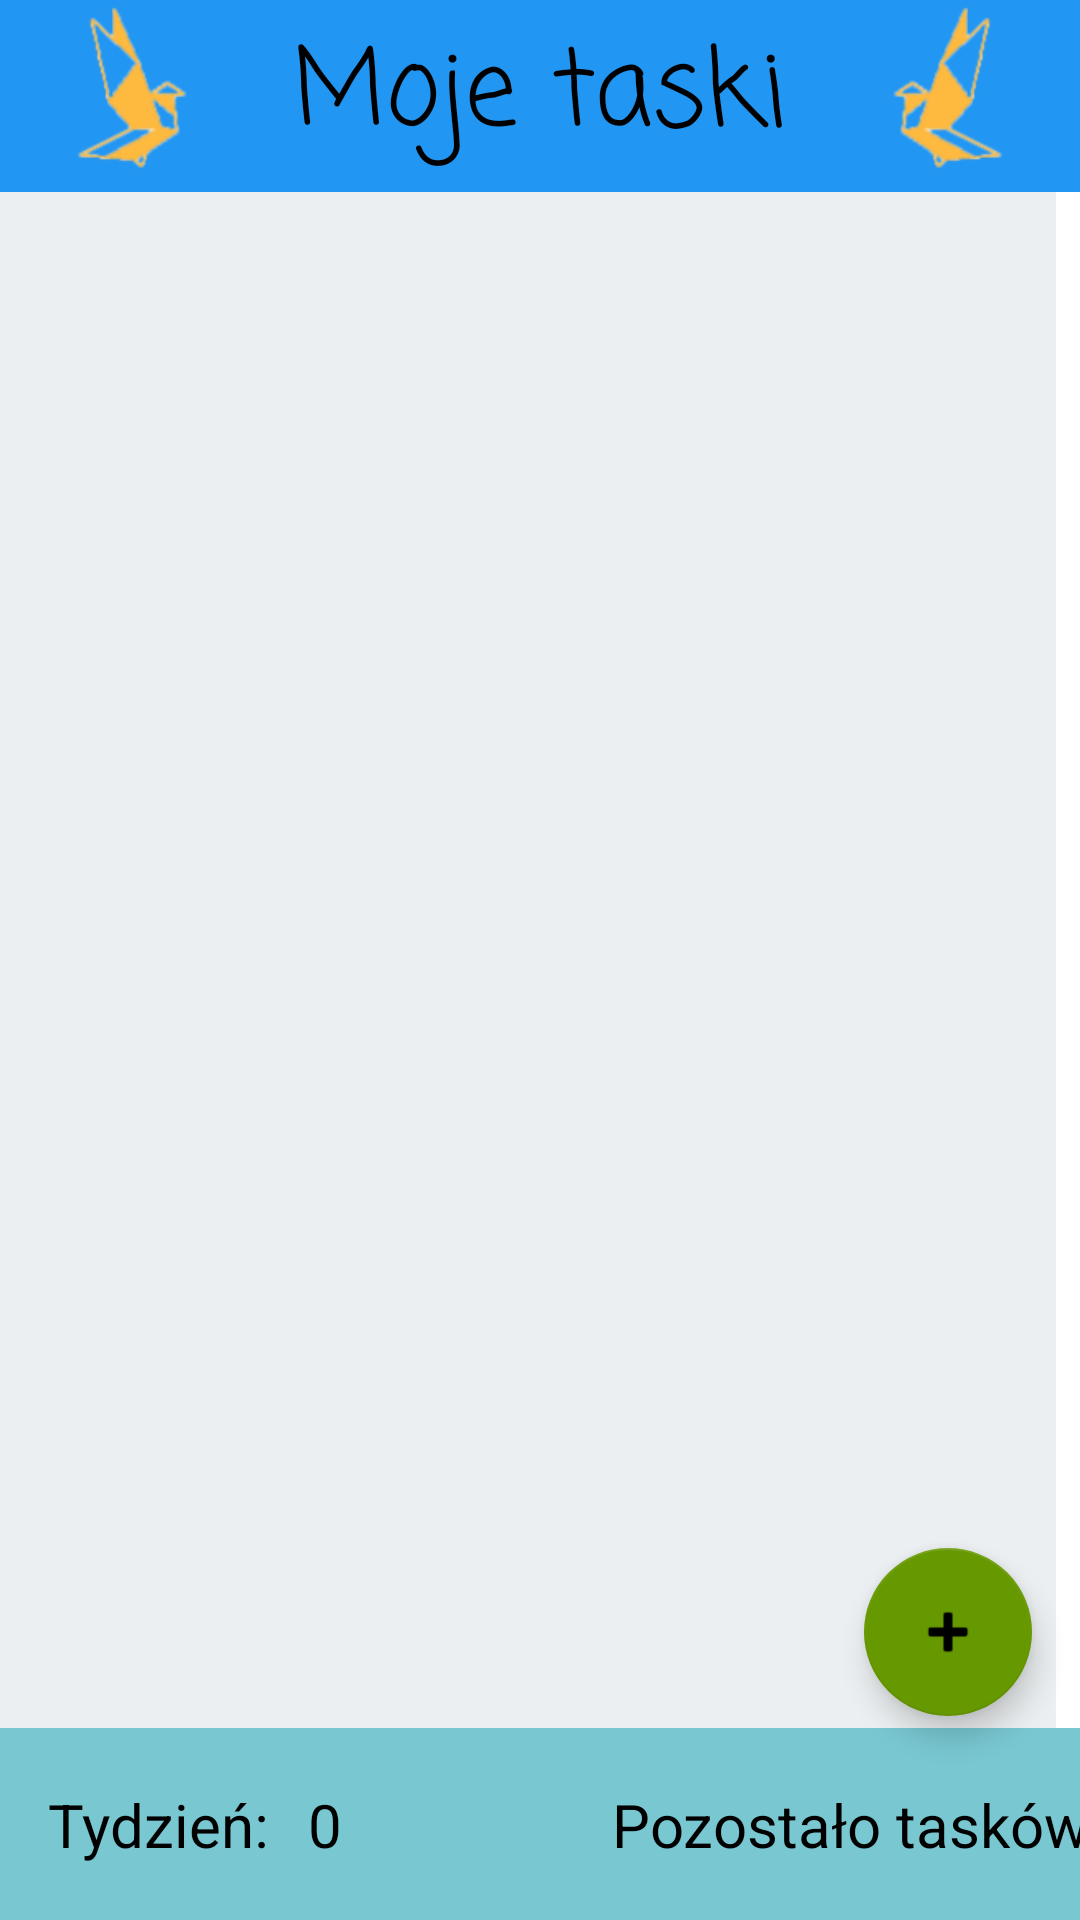

Icon bounding boxes for this 1080*1920 phone screenshot, format Rect(x1, y1, x2, y2):
Dodaj nowe zadanie: Rect(864, 1548, 1032, 1716)
